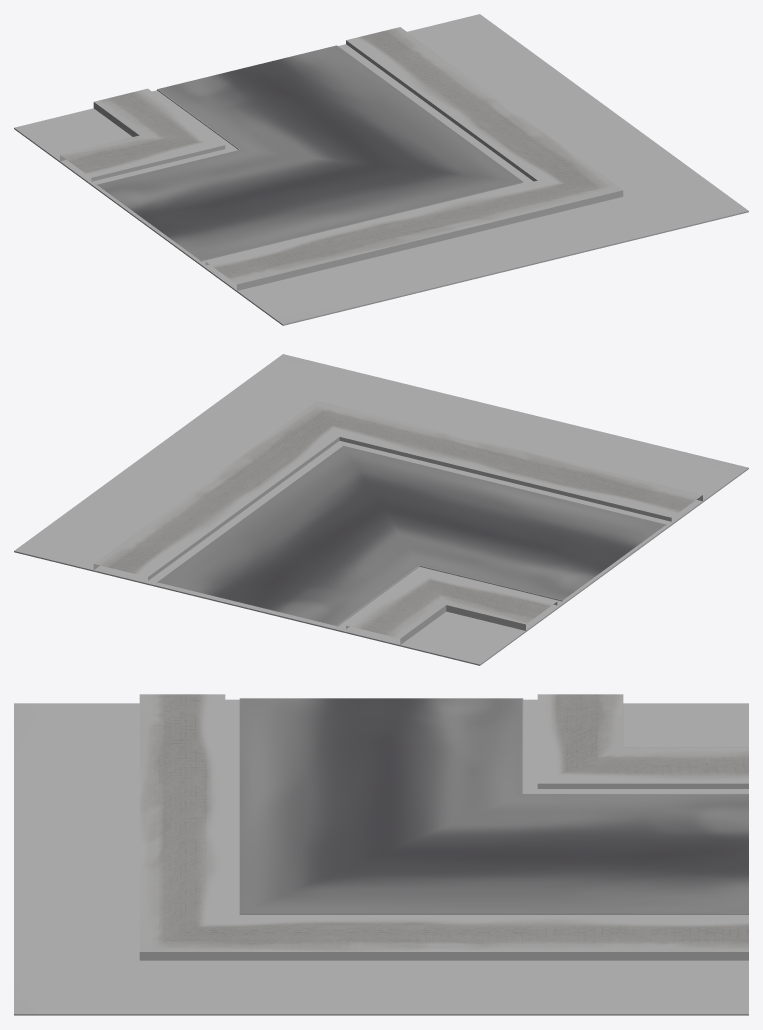
The model's file is Flat_Turn.fbx.
3 renders of one model, top to bottom at view 1: azimuth 30°, elevation 25°; view 2: azimuth 150°, elevation 25°; view 3: azimuth 270°, elevation 25°, orthographic. The views are drawn at different scales.
Parts seen in each view (by area): view 1: Road_10X36, Road_10X67; view 2: Road_10X36, Road_10X67; view 3: Road_10X36, Road_10X67.
Boxes of the visible parts, box(x1,y1,x2,y2) form: Road_10X36: box(60, 27, 623, 290); Road_10X67: box(14, 14, 748, 325); Road_10X36: box(93, 400, 702, 644); Road_10X67: box(14, 354, 748, 665); Road_10X36: box(139, 694, 748, 960); Road_10X67: box(14, 703, 748, 1015).
Bounding box in the file's own units: 1000 × 15.99 × 1000.
